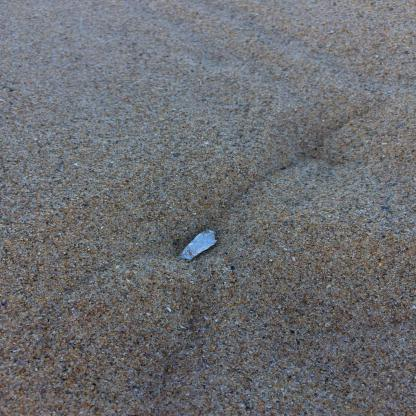Aluminium foil: (179, 229, 217, 260)
